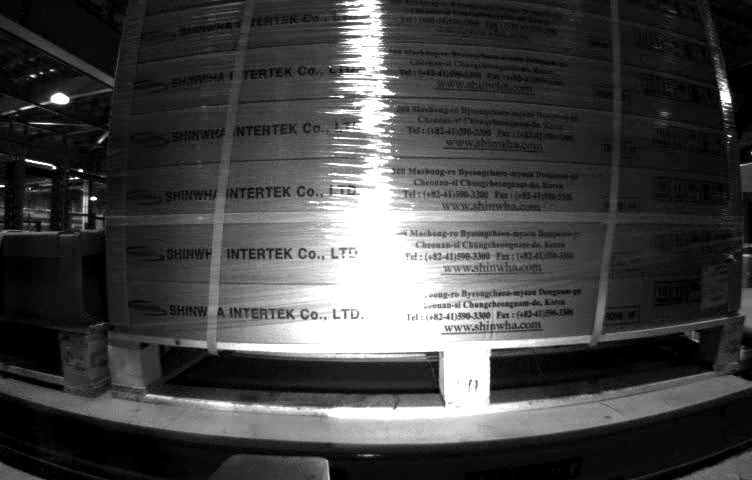True Barcode: (697, 266, 736, 308)
